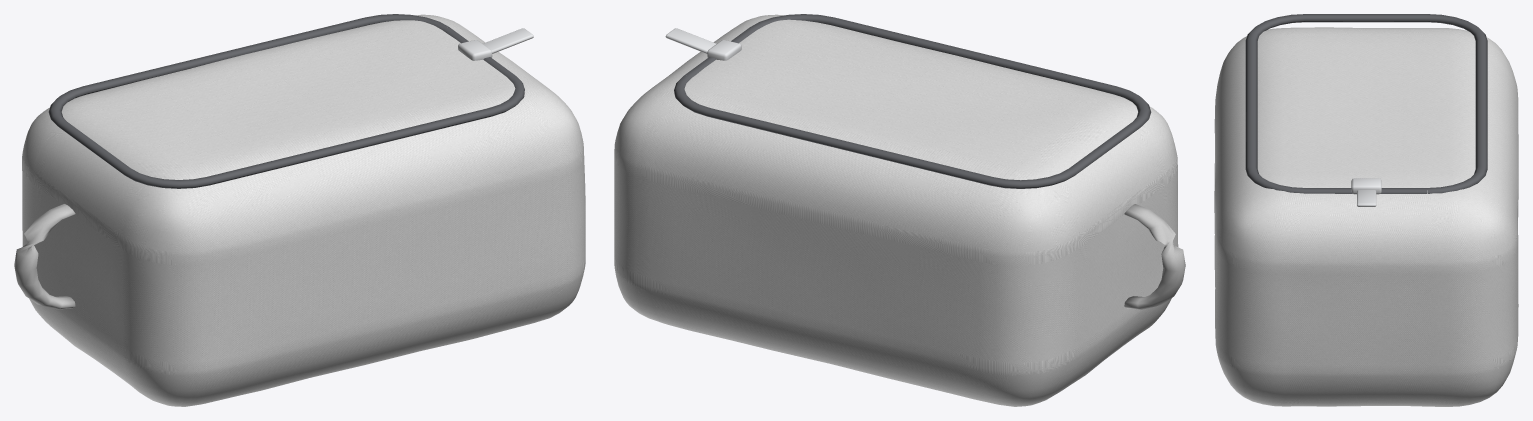
File: pouch.glb
3 views of the same model, side by side, from view 1: azimuth 30°, elevation 25°; view 2: azimuth 150°, elevation 25°; view 3: azimuth 270°, elevation 25° (orthographic). The views are drawn at different scales.
Visible parts, largest first — view 1: pouch_body, pouch_zip, pouch_loop, pouch_pull, pouch_slider; view 2: pouch_body, pouch_zip, pouch_loop, pouch_pull, pouch_slider; view 3: pouch_body, pouch_zip, pouch_slider, pouch_pull.
Boxes of the visible parts, bbox=[...] form: pouch_body: bbox=[22, 14, 585, 406]; pouch_zip: bbox=[48, 14, 524, 188]; pouch_loop: bbox=[14, 204, 75, 309]; pouch_pull: bbox=[483, 28, 533, 53]; pouch_slider: bbox=[458, 40, 492, 60]; pouch_body: bbox=[614, 14, 1178, 406]; pouch_zip: bbox=[674, 14, 1151, 188]; pouch_loop: bbox=[1124, 204, 1185, 309]; pouch_pull: bbox=[665, 28, 716, 53]; pouch_slider: bbox=[707, 40, 741, 60]; pouch_body: bbox=[1214, 27, 1518, 406]; pouch_zip: bbox=[1245, 14, 1487, 193]; pouch_slider: bbox=[1351, 178, 1381, 194]; pouch_pull: bbox=[1357, 190, 1376, 206].
Bounding box in the file's own units: 25.53 × 11.43 × 14.08.
4 materials, 2 textured.
